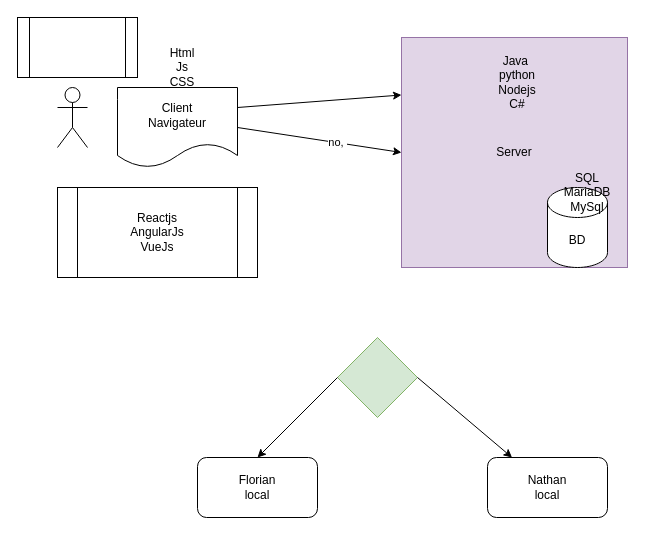
Some shapes in this 645 by 535 pixel diagram are drawn without their labels. Here are the shapes that lost their labels. From the top down, the centre of each, then its label:
At point 77,47: "Materialize Boostrap Sailwind".
At point 72,117: "Actor".
At point 377,377: "Git".
